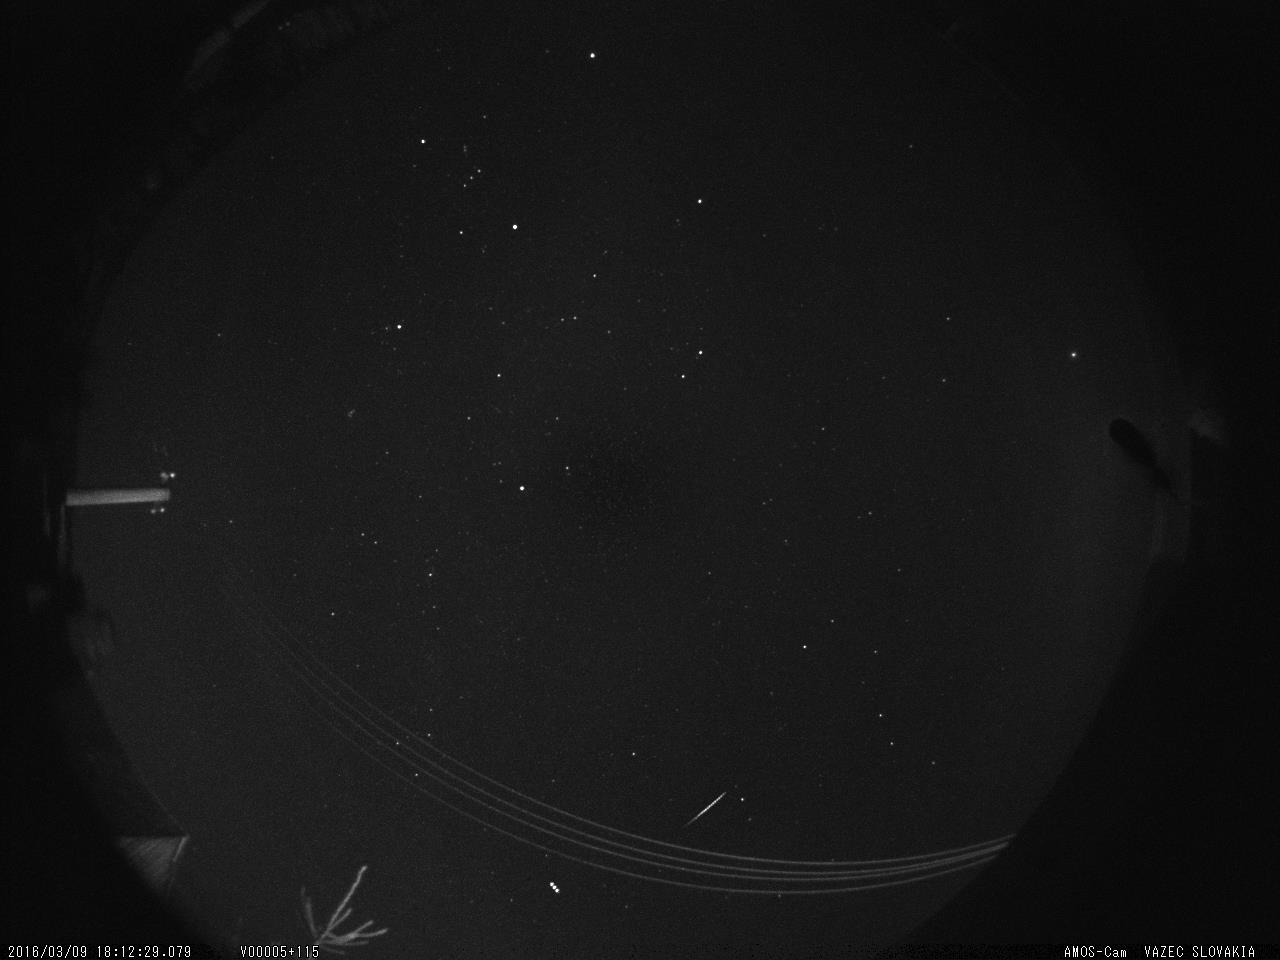meteor: (677, 786, 730, 832)
satelite: (544, 873, 566, 901)
